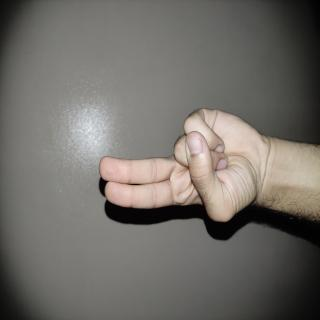TA: (58, 115, 172, 320)
